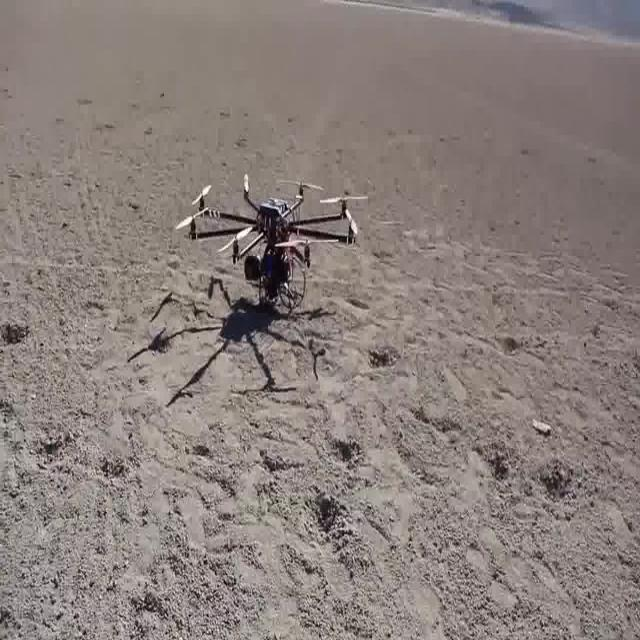drone: (158, 146, 396, 367)
